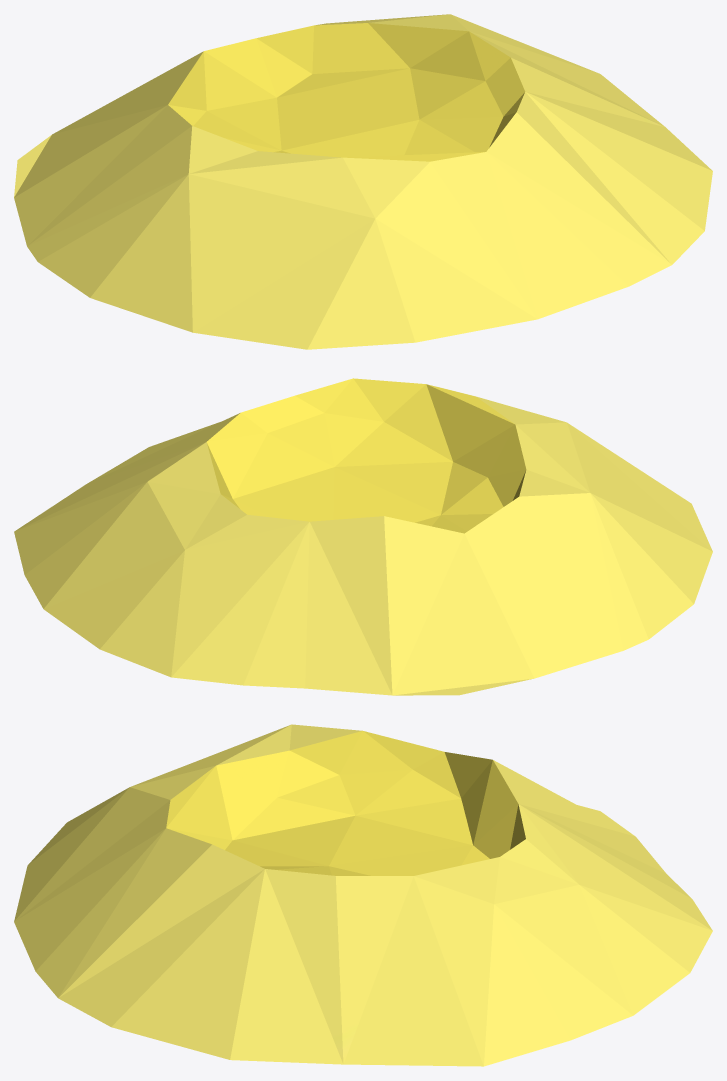
The model's file is Hill_025.fbx.
3 views of the same model, one above another, from view 1: azimuth 30°, elevation 25°; view 2: azimuth 150°, elevation 25°; view 3: azimuth 270°, elevation 25° (orthographic). The views are drawn at different scales.
Parts seen in each view (by area): view 1: Hill_025; view 2: Hill_025; view 3: Hill_025.
Part boxes in pixels (x1,y1,x2,y2): Hill_025: [14, 14, 712, 349]; Hill_025: [14, 378, 712, 695]; Hill_025: [14, 724, 712, 1066].
Bounding box in the file's own units: 222 × 219 × 40.15.
1 material, 1 textured.
